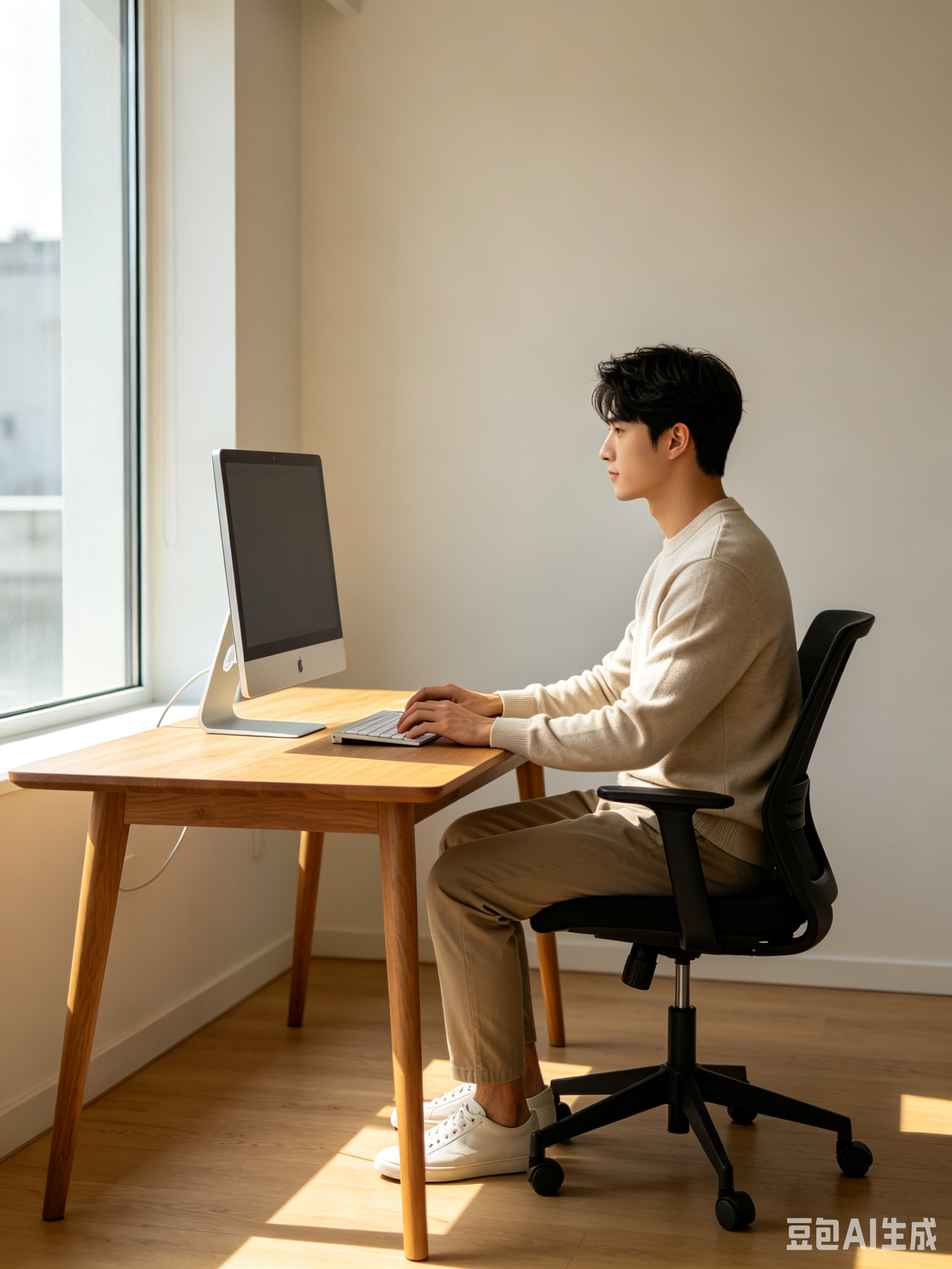sitting_good: (403, 350, 788, 1150)
